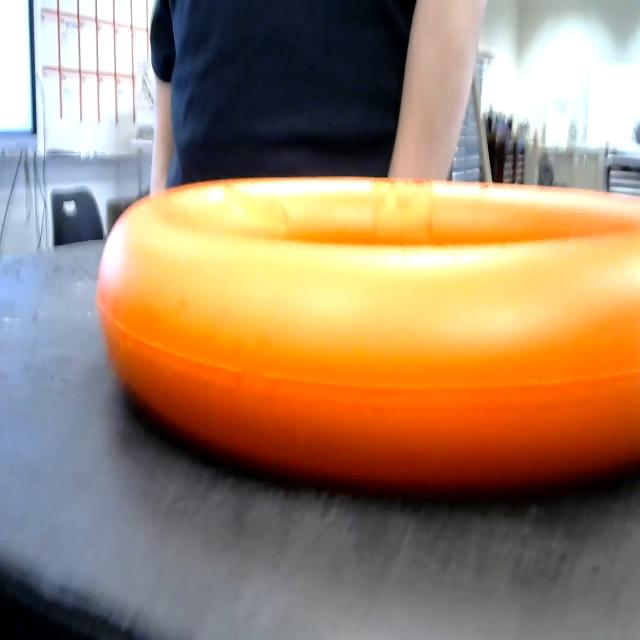note: (86, 160, 640, 503)
